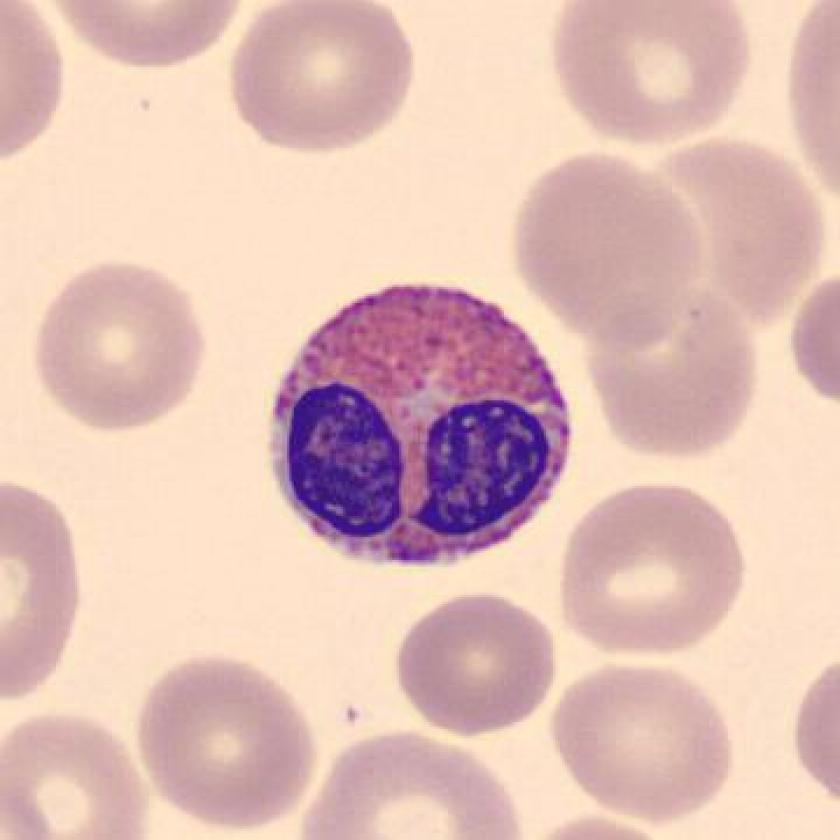eosinophil: (253, 270, 584, 587)
